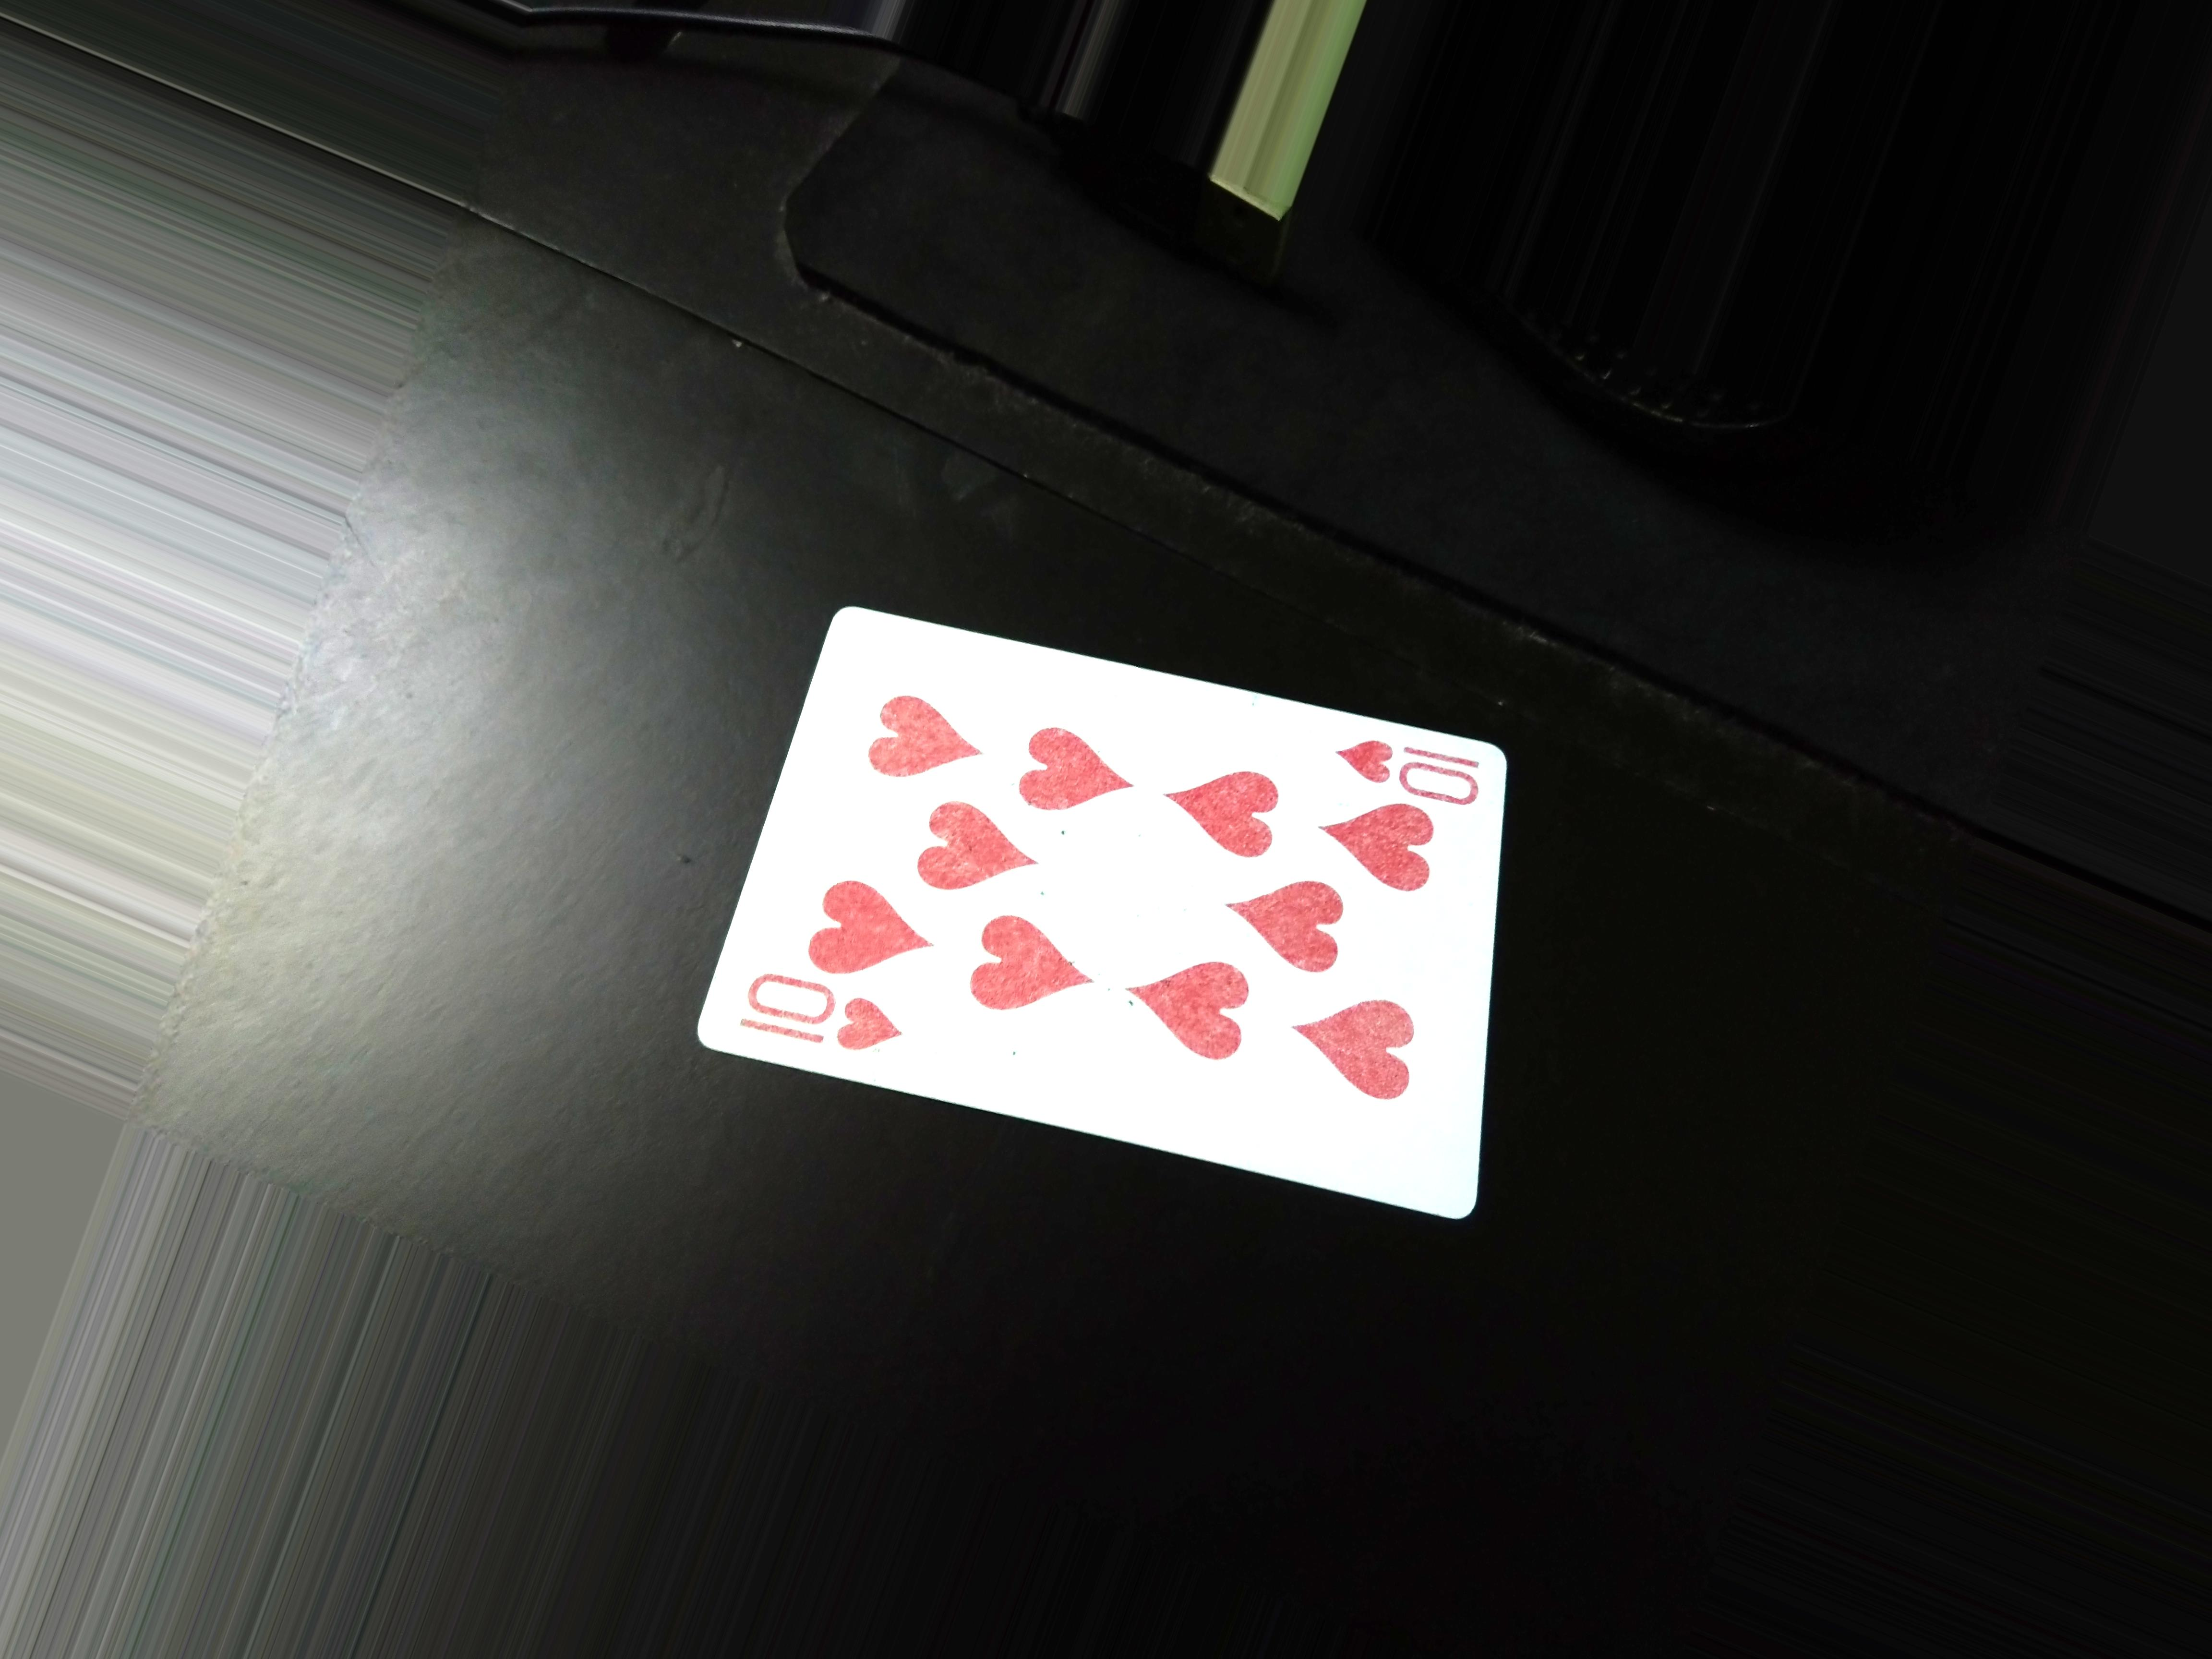10H: (1322, 732, 1498, 810)
